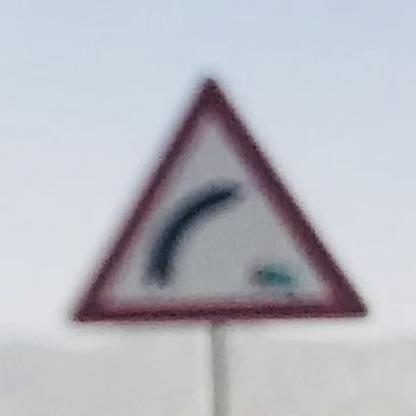Right bend: (64, 70, 373, 323)
